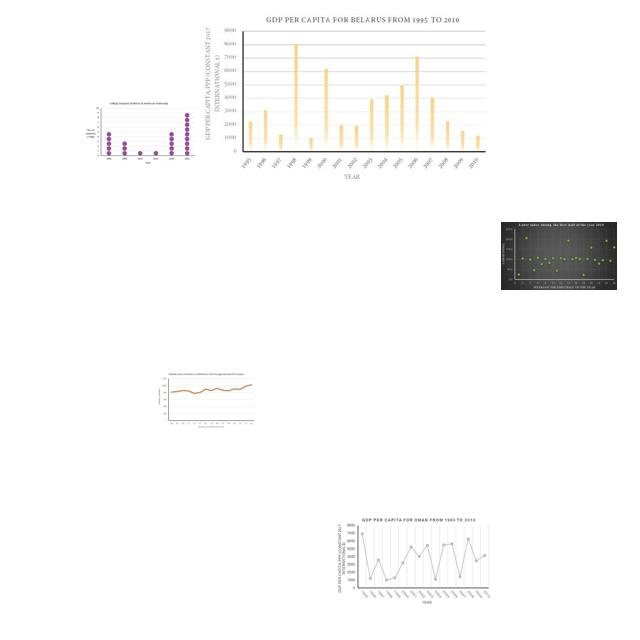Graph: (201, 13, 489, 182), (336, 515, 492, 606), (501, 222, 617, 290), (83, 100, 197, 167), (156, 371, 257, 431)
